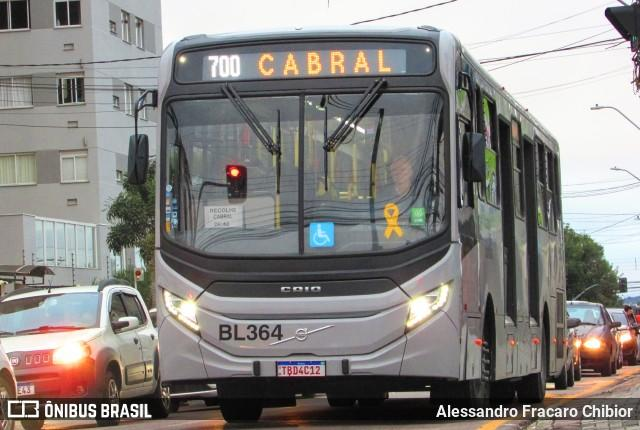CABRAL: (250, 48, 395, 79)
